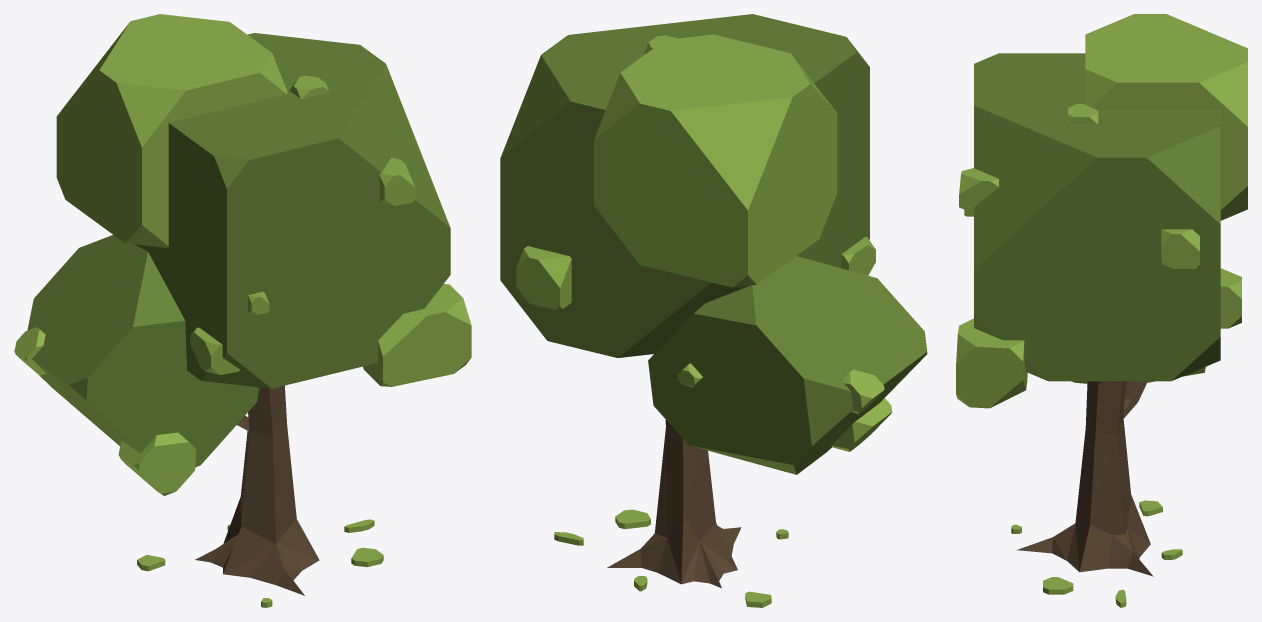
Rendered from Tree_D_01.FBX.
3 renders of one model, left to right at view 1: azimuth 30°, elevation 25°; view 2: azimuth 150°, elevation 25°; view 3: azimuth 270°, elevation 25°, orthographic. The views are drawn at different scales.
Parts seen in each view (by area): view 1: Tree_D_01; view 2: Tree_D_01; view 3: Tree_D_01.
Part boxes in pixels (box(x1,y1,x2,y2)): Tree_D_01: box(14, 14, 471, 607); Tree_D_01: box(500, 14, 927, 607); Tree_D_01: box(956, 14, 1247, 607).
Size of the model in its own units: 3.58 by 4.85 by 2.69.
